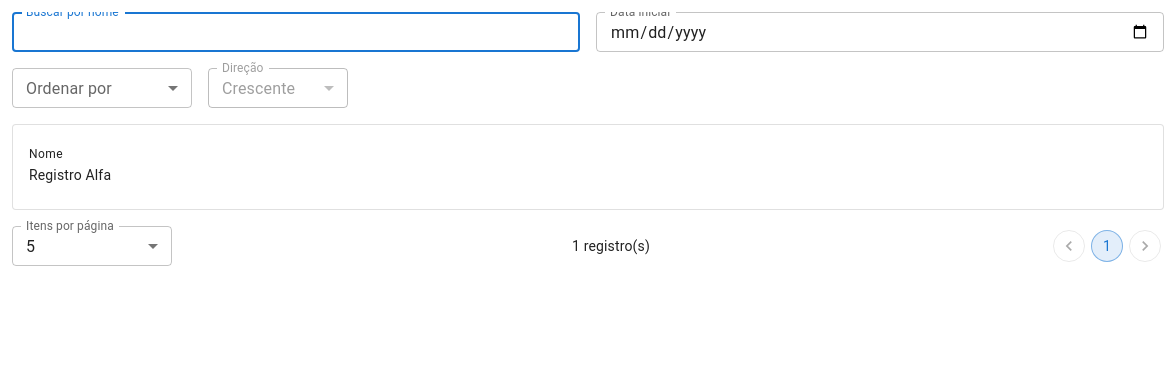
Scenario: PaginatedList — contrato da #29 e feedback da #27 › mantém o campo e o foco durante loading e resultado vazio
The width and height of the screenshot is (1176, 389).
Later steps or results of the test are not shown.
expect the text "Registro Alfa" is shown: met, box 29,167 -> 111,183
In the field labelled "Buscar por nome": (296, 32) 12,12 -> 580,52, type "inexistente"
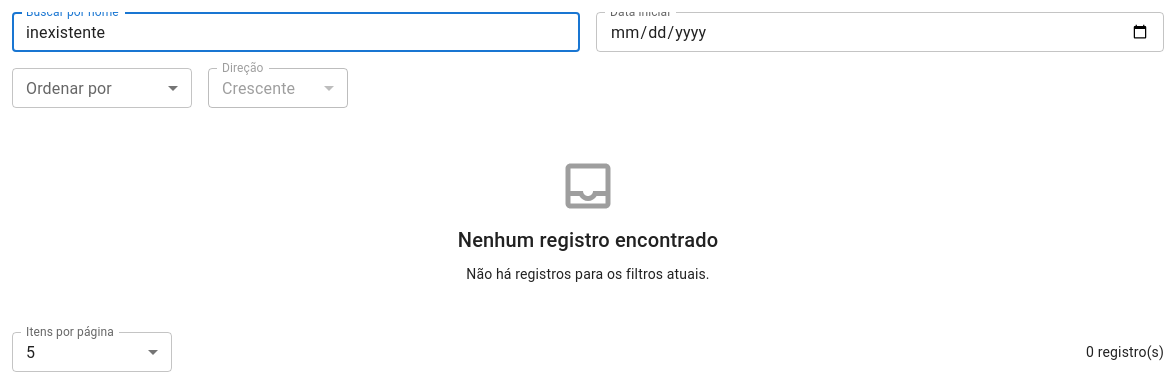
expect the heading "Nenhum registro encontrado" is shown: met, box 458,224 -> 718,256
Clear the field labelled "Buscar por nome": (296, 32) 12,12 -> 580,52
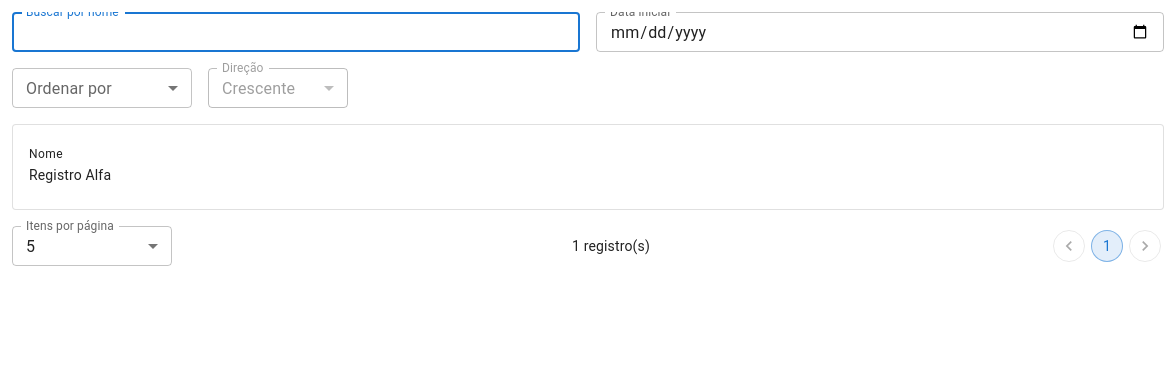
expect the text "Registro Alfa" is shown: met, box 29,167 -> 111,183
